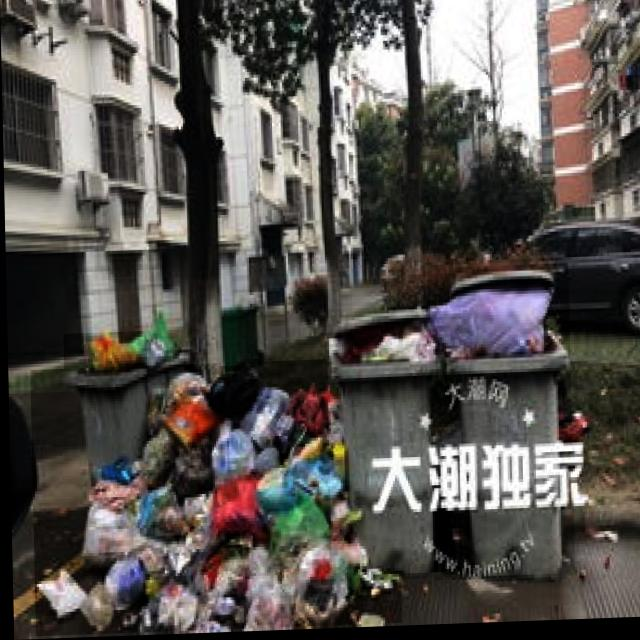garbage: (28, 360, 399, 636)
garbage_bin: (216, 305, 256, 368)
overflow: (426, 267, 572, 584), (324, 309, 439, 576), (62, 332, 147, 479)
